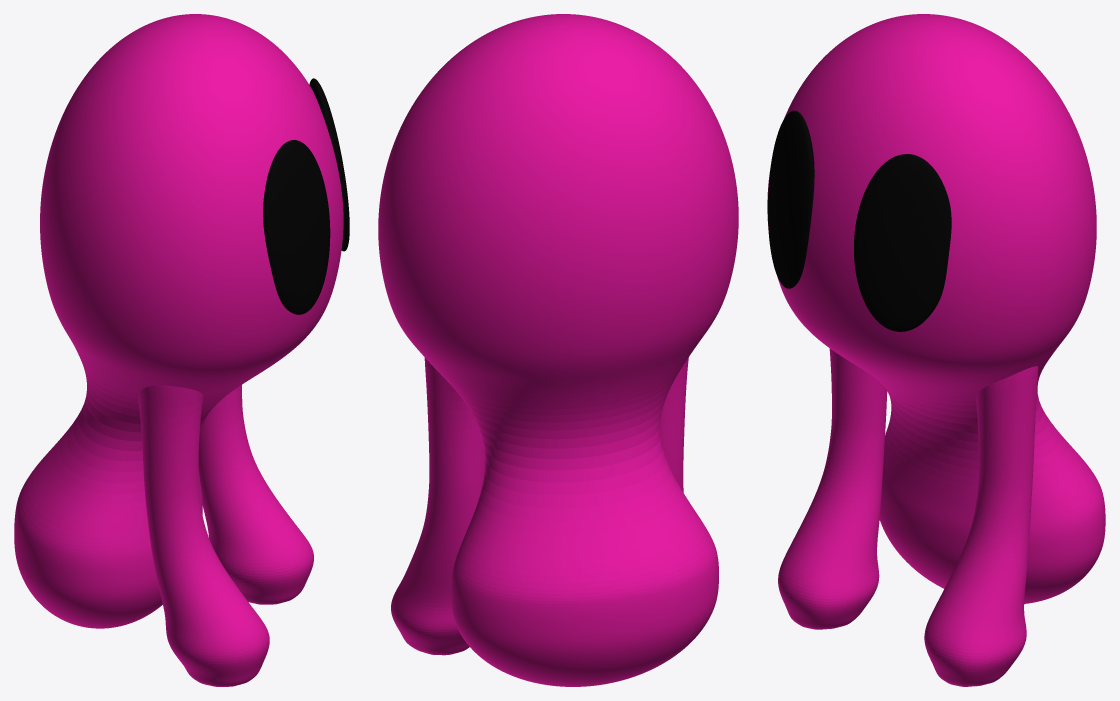
Rendered from Alien3.fbx.
The picture shows the model from 3 angles, left to right: view 1: azimuth 30°, elevation 25°; view 2: azimuth 150°, elevation 25°; view 3: azimuth 270°, elevation 25°; orthographic projection. The views are drawn at different scales.
Parts seen in each view (by area): view 1: Sphere.015, Cylinder.016, Cylinder.015, Right_large_black_oval_eye.009, Left_large_black_oval_eye.009; view 2: Sphere.015, Cylinder.015, Cylinder.016; view 3: Sphere.015, Cylinder.015, Cylinder.016, Left_large_black_oval_eye.009, Right_large_black_oval_eye.009.
Part boxes in pixels (x1,y1,x2,y2): Sphere.015: [14, 14, 343, 628]; Cylinder.016: [138, 385, 269, 686]; Cylinder.015: [198, 385, 313, 604]; Right_large_black_oval_eye.009: [263, 140, 330, 314]; Left_large_black_oval_eye.009: [309, 78, 349, 251]; Sphere.015: [378, 14, 738, 686]; Cylinder.015: [391, 357, 485, 655]; Cylinder.016: [660, 357, 688, 492]; Sphere.015: [767, 14, 1105, 603]; Cylinder.015: [924, 366, 1038, 686]; Cylinder.016: [778, 348, 887, 629]; Left_large_black_oval_eye.009: [854, 154, 951, 331]; Right_large_black_oval_eye.009: [768, 110, 814, 288].
Size of the model in its own units: 185 by 365 by 184.
